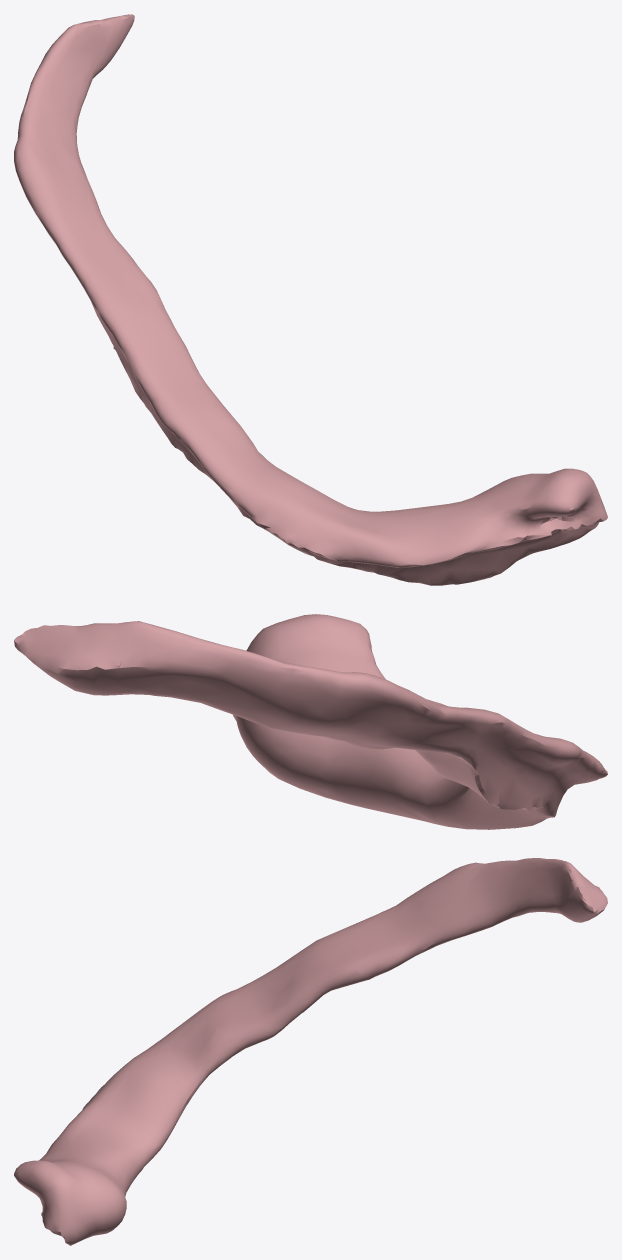
The model's file is fma74044-r_mm3643m.glb.
3 renders of one model, top to bottom at view 1: azimuth 30°, elevation 25°; view 2: azimuth 150°, elevation 25°; view 3: azimuth 270°, elevation 25°, orthographic. The views are drawn at different scales.
Visible parts, largest first — view 1: FMA74044-R_MM3643M; view 2: FMA74044-R_MM3643M; view 3: FMA74044-R_MM3643M.
Part boxes in pixels (box(x1,y1,x2,y2)): FMA74044-R_MM3643M: box(14, 14, 607, 585); FMA74044-R_MM3643M: box(14, 614, 607, 829); FMA74044-R_MM3643M: box(14, 858, 607, 1245).
Bounding box in the file's own units: 0.0187 × 0.0187 × 0.032.
